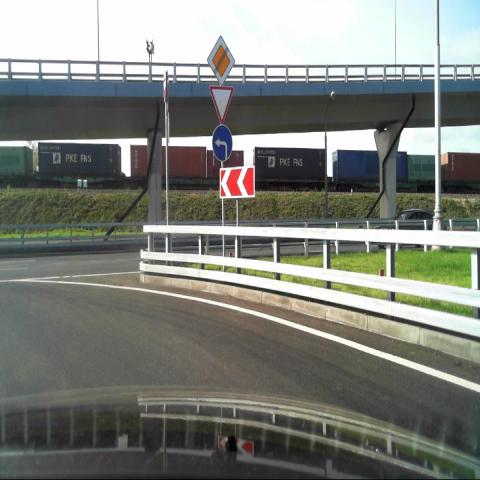2_2: (206, 35, 236, 87)
4_1_3: (213, 122, 234, 163)
